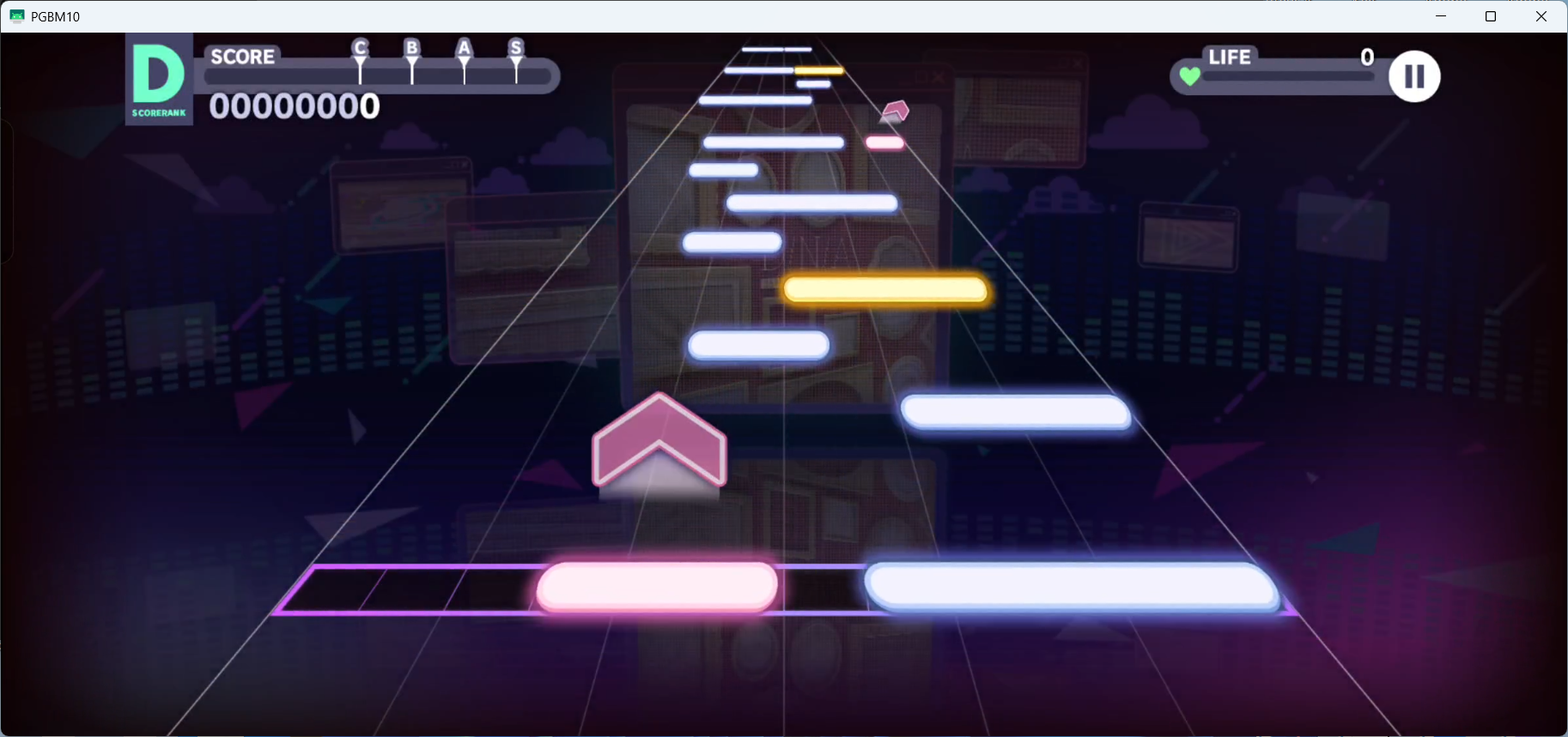flick: (592, 391, 726, 503), (879, 99, 909, 124)
tap: (863, 561, 1281, 612), (537, 561, 778, 609), (900, 396, 1131, 431), (785, 276, 987, 303), (686, 329, 830, 361), (726, 194, 899, 211), (682, 232, 781, 252), (703, 136, 843, 148), (699, 95, 811, 104), (690, 164, 758, 177), (724, 67, 793, 75), (866, 136, 904, 148), (794, 66, 843, 75), (797, 80, 831, 88), (742, 47, 784, 51), (784, 47, 811, 51)
